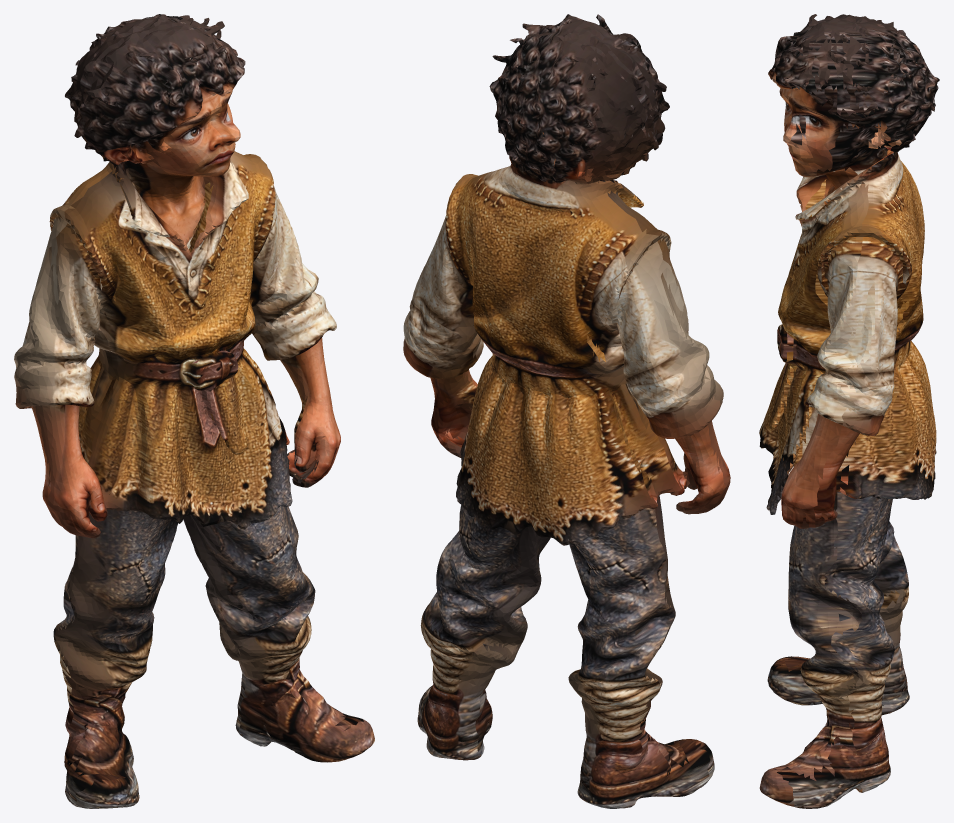
File: garoto_pele_escura.glb
3 views of the same model, side by side, from view 1: azimuth 30°, elevation 25°; view 2: azimuth 150°, elevation 25°; view 3: azimuth 270°, elevation 25° (orthographic). The views are drawn at different scales.
Visible parts, largest first — view 1: tmpc61729ln.ply; view 2: tmpc61729ln.ply; view 3: tmpc61729ln.ply.
Part boxes in pixels (box(x1,y1,x2,y2)): tmpc61729ln.ply: box(14, 14, 374, 808); tmpc61729ln.ply: box(403, 14, 730, 808); tmpc61729ln.ply: box(759, 14, 939, 808).
Bounding box in the file's own units: 0.88 × 1.96 × 0.4525.
2 materials, 2 textured.
